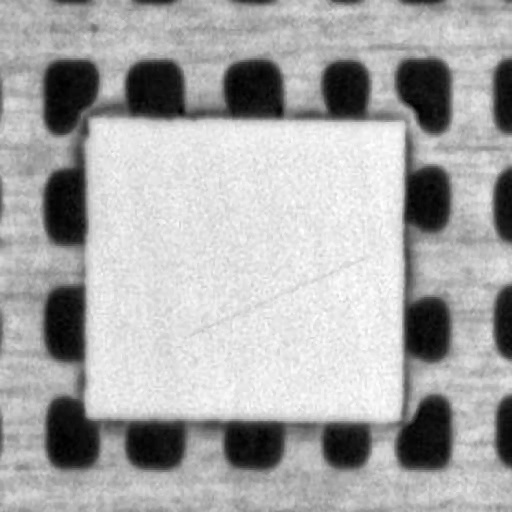DIE_CRACK: (242, 192, 483, 253)
